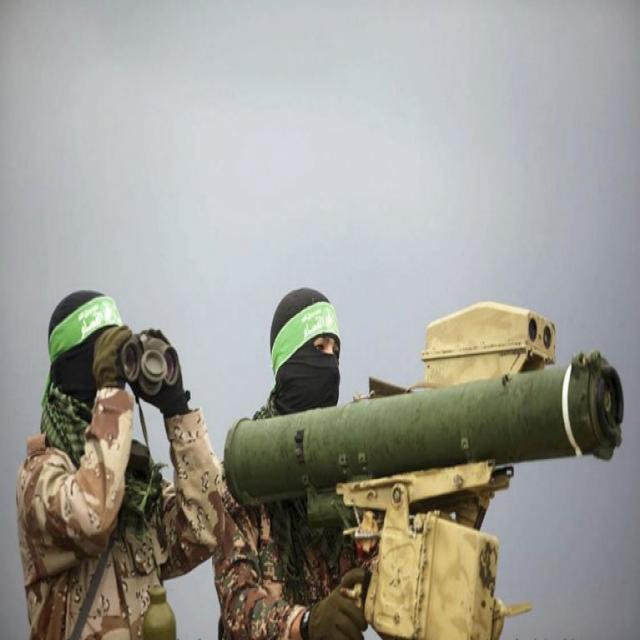bazooka: (199, 322, 634, 528)
